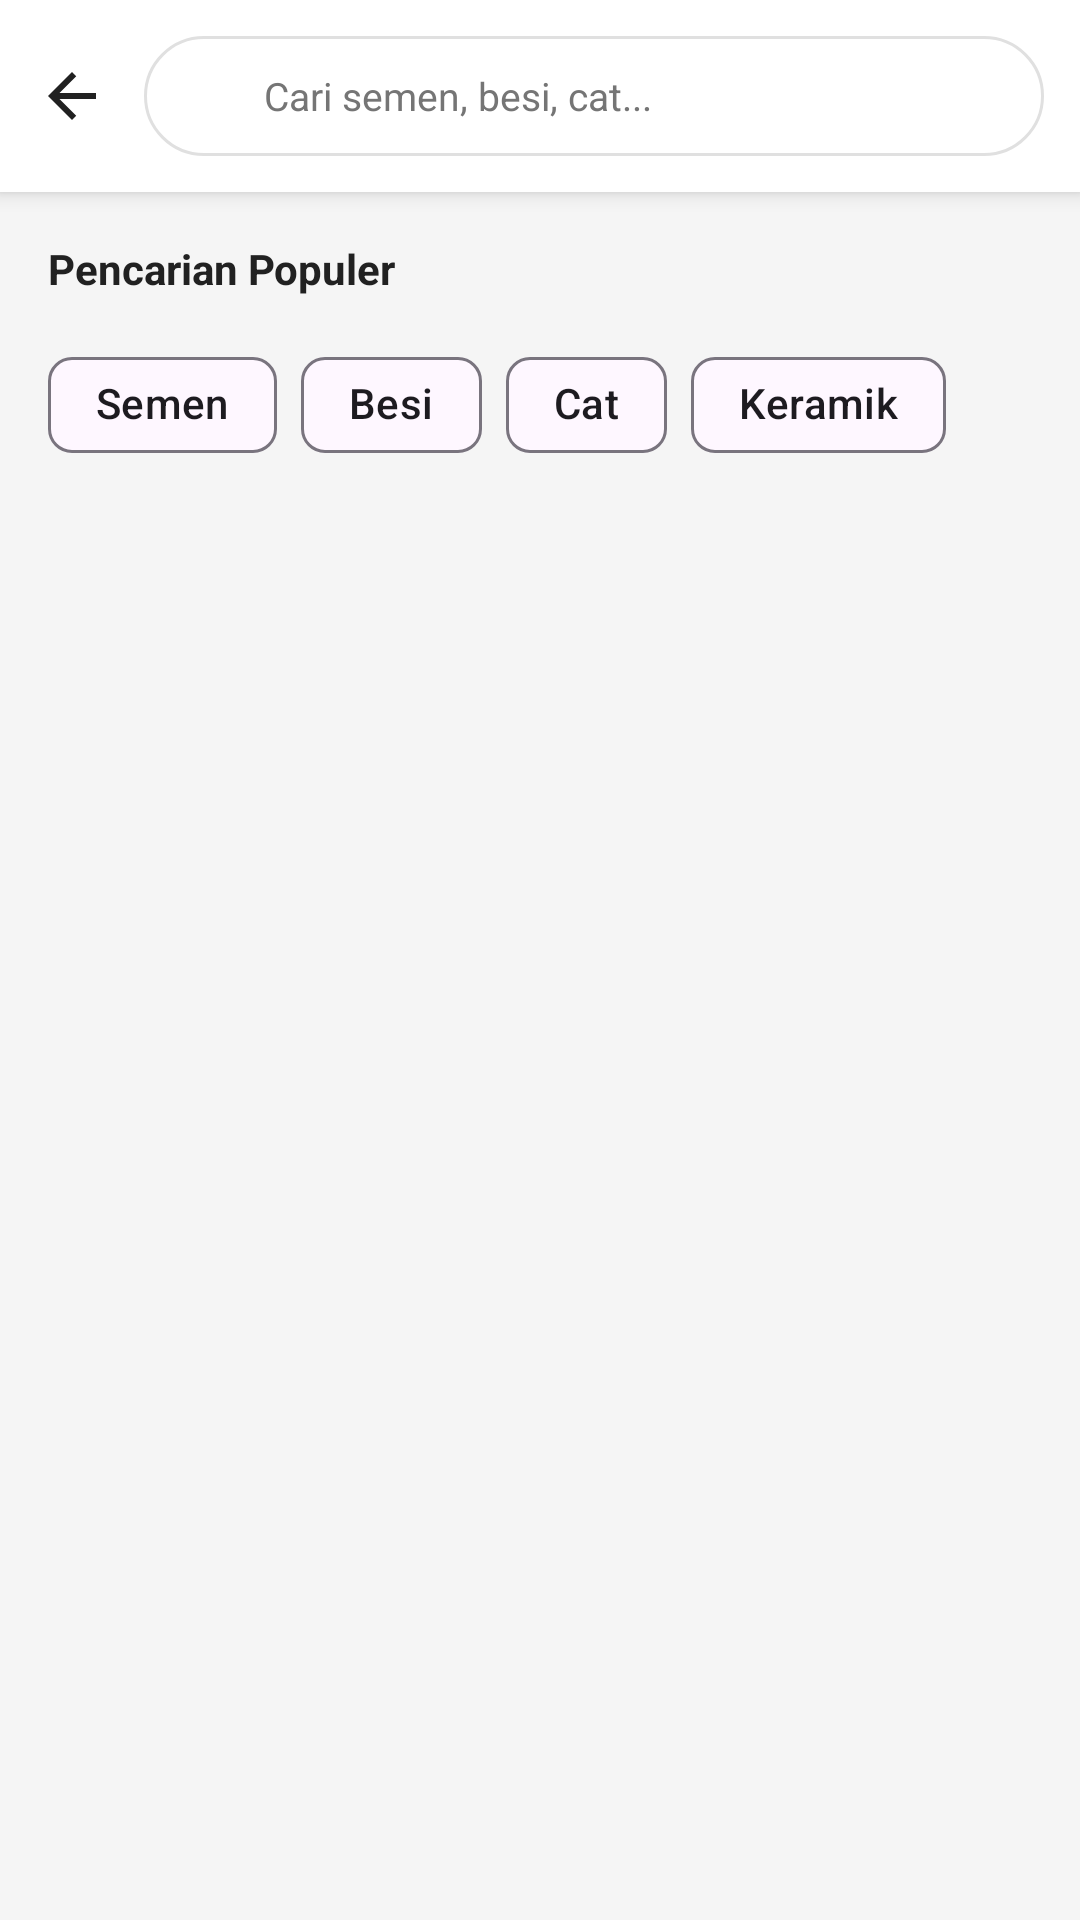

Named icons in this screenshot (1080 × 1920) and their bounding boxes, (x1, y1, x2, y2):
back: (48, 72, 96, 120)
